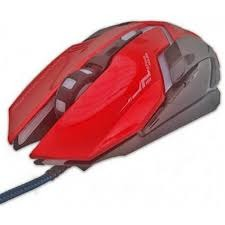mouse: (5, 9, 222, 179)
